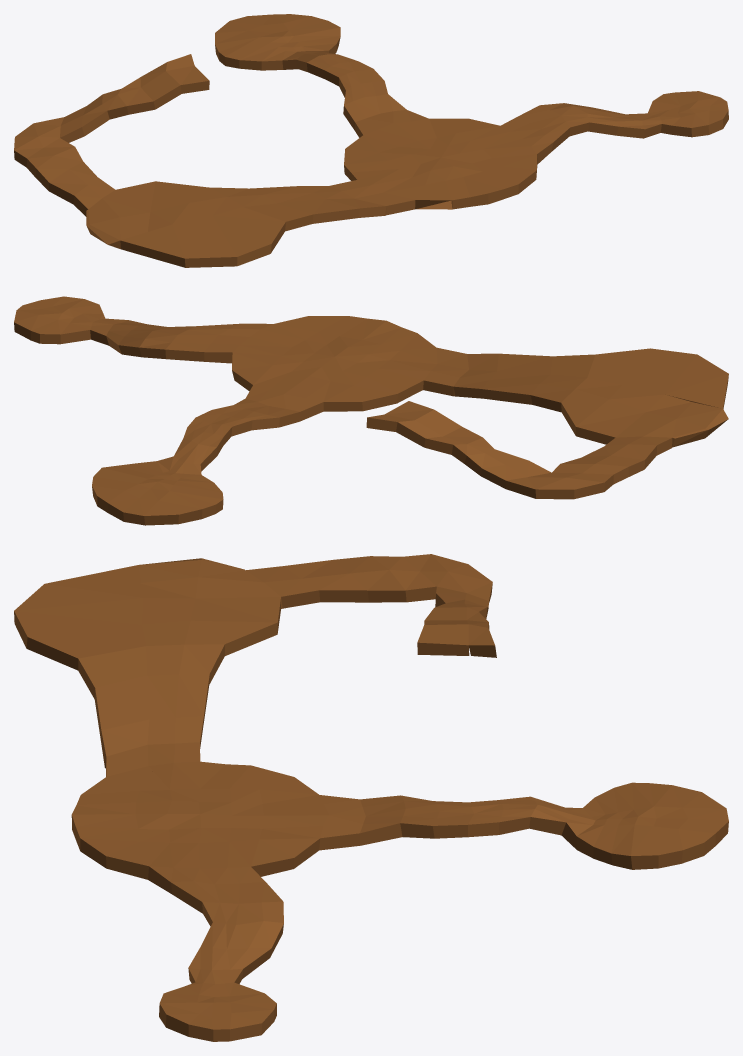
3 renders of one model, top to bottom at view 1: azimuth 30°, elevation 25°; view 2: azimuth 150°, elevation 25°; view 3: azimuth 270°, elevation 25°, orthographic. The views are drawn at different scales.
Visible parts, largest first — view 1: Plane.013; view 2: Plane.013; view 3: Plane.013.
Part boxes in pixels (x1,y1,x2,y2): Plane.013: [14, 14, 728, 267]; Plane.013: [14, 296, 728, 525]; Plane.013: [14, 554, 728, 1041].
Size of the model in its own units: 9687 by 1229 by 6932.
